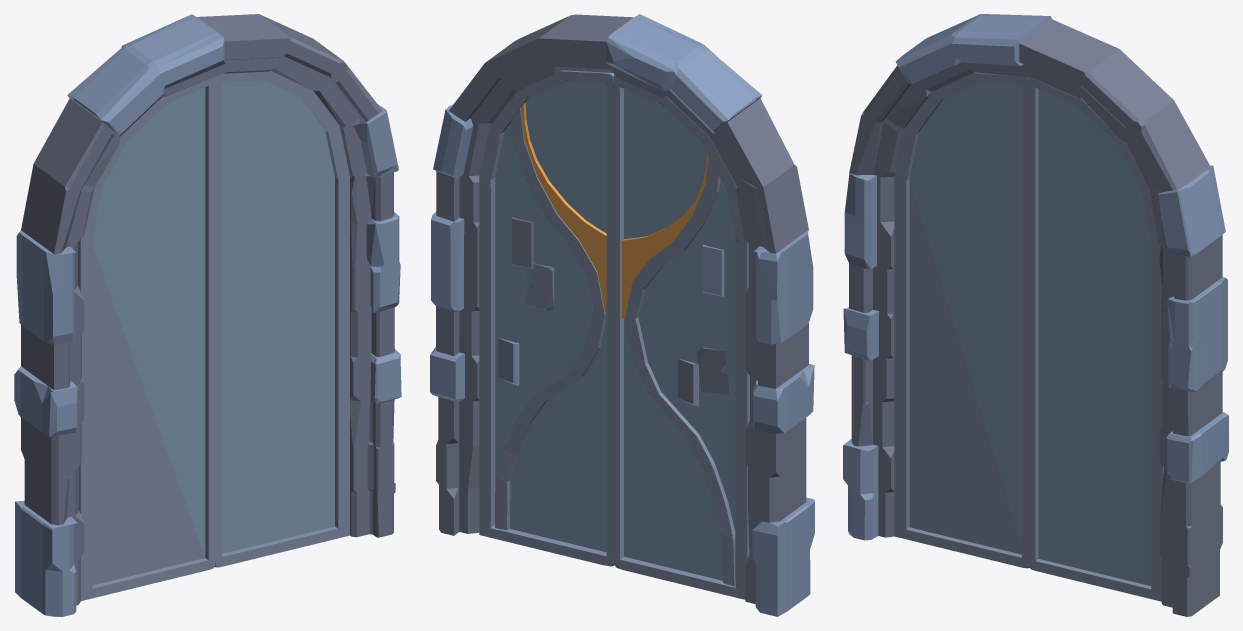
The model's file is Gate.fbx.
The picture shows the model from 3 angles, left to right: view 1: azimuth 30°, elevation 25°; view 2: azimuth 150°, elevation 25°; view 3: azimuth 330°, elevation 25°; orthographic projection.
Visible parts, largest first — view 1: 门框, 门左, 门右; view 2: 门框, 门左, 门右; view 3: 门框, 门右, 门左.
Boxes of the visible parts, left/top/right/bottom form: 门框: left=14, top=14, right=401, bottom=616; 门左: left=214, top=71, right=349, bottom=567; 门右: left=78, top=77, right=215, bottom=600; 门框: left=430, top=14, right=814, bottom=616; 门左: left=479, top=70, right=614, bottom=566; 门右: left=613, top=75, right=749, bottom=599; 门框: left=843, top=14, right=1228, bottom=616; 门右: left=894, top=73, right=1029, bottom=568; 门左: left=1028, top=77, right=1163, bottom=601.
Size of the model in its own units: 262 by 382 by 48.82.
